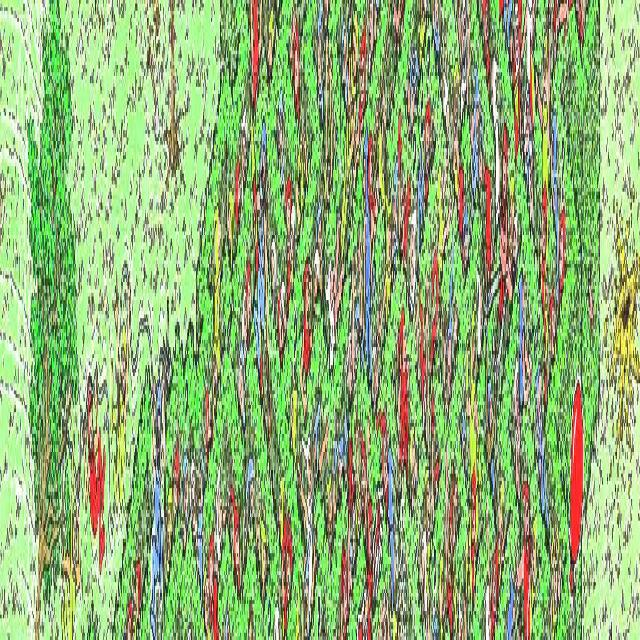waldo: (351, 467, 356, 564)
